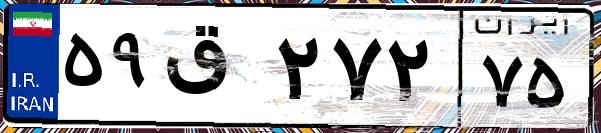2: (270, 28, 330, 110), (385, 28, 445, 110)
5: (57, 26, 110, 100), (525, 38, 570, 115)
7: (330, 28, 385, 110), (475, 38, 525, 113)
9: (110, 28, 158, 98)
ق: (158, 20, 270, 120)
